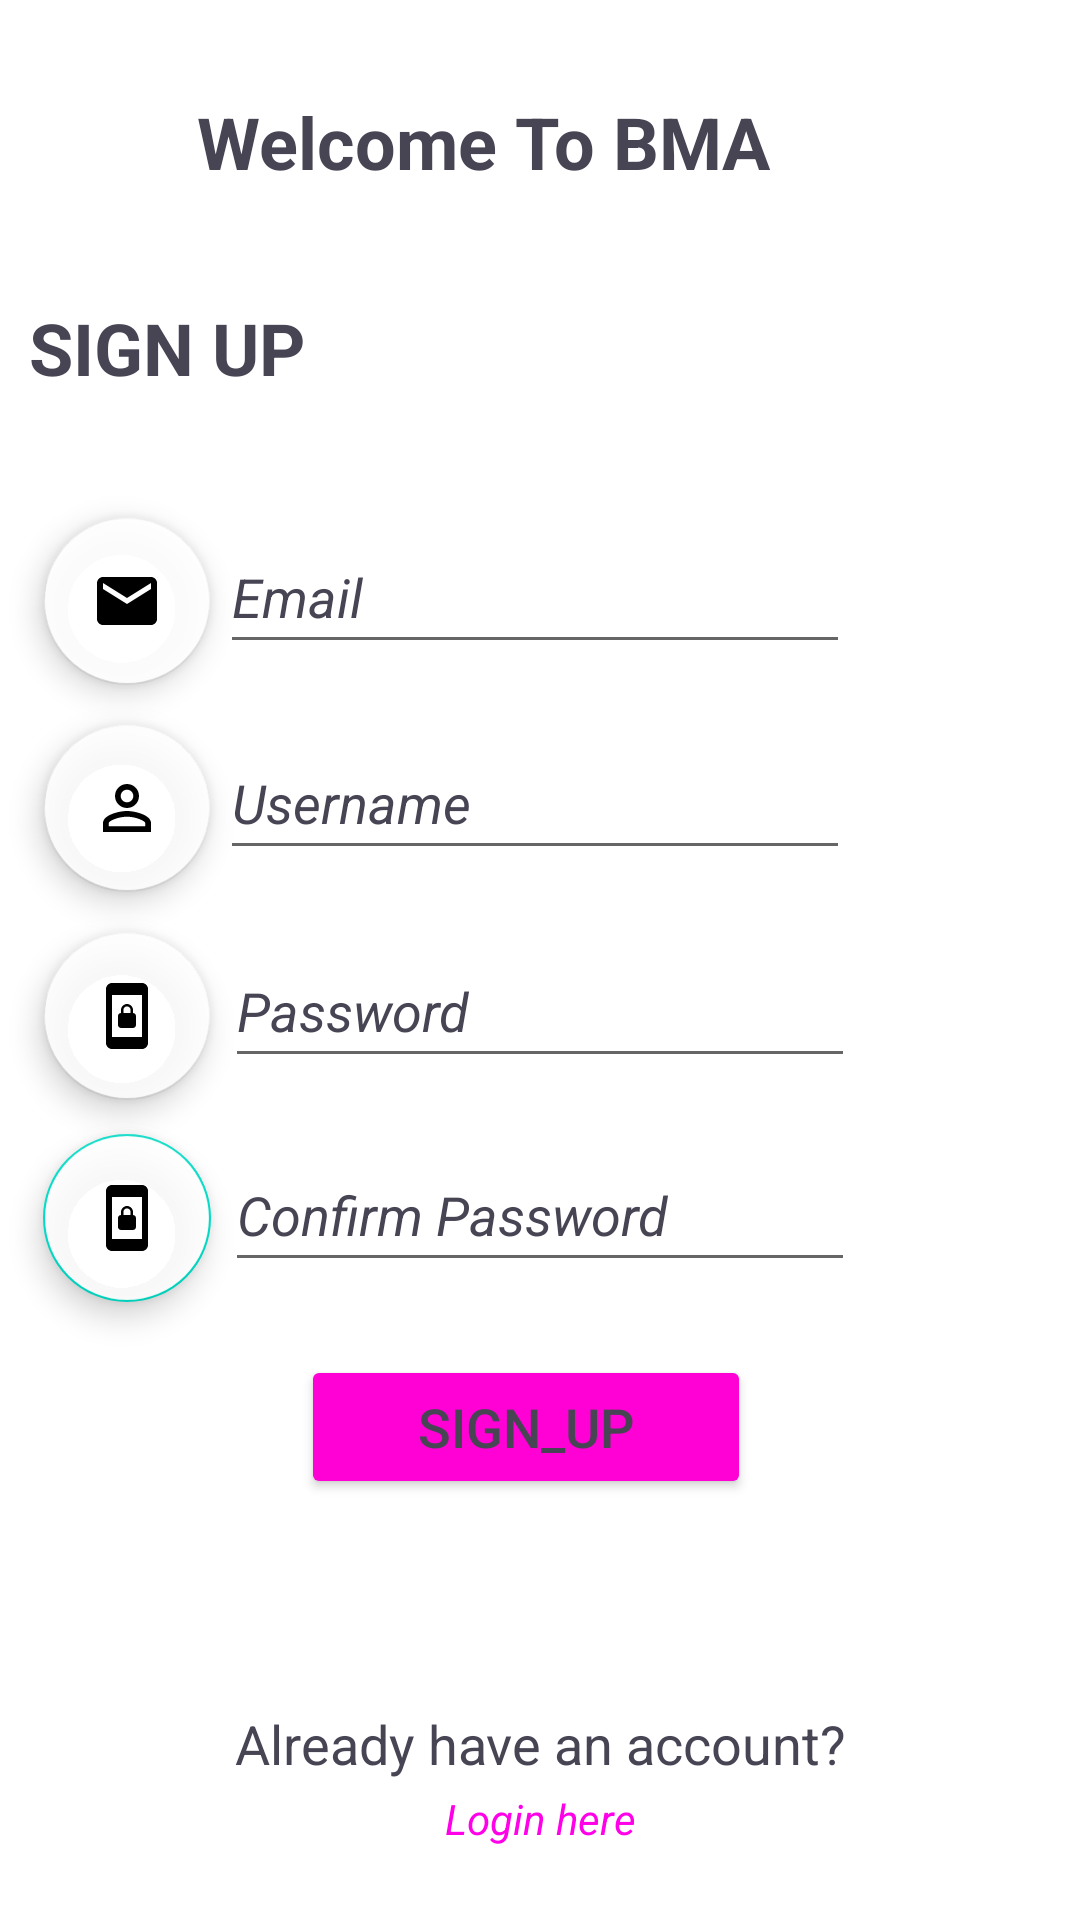

Icons on this 1080x1920 Android screen, each with its box as (x1, y1, x2, y2):
lock: (106, 983, 148, 1049), (43, 1134, 211, 1302)
person: (43, 777, 208, 892)
